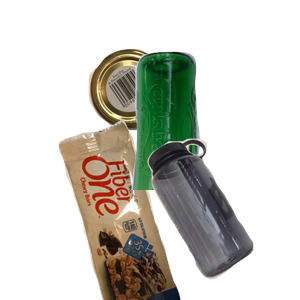glass: (129, 49, 300, 229)
metal: (86, 46, 248, 169)
plastic: (145, 136, 300, 300)
trash: (56, 120, 229, 300)
